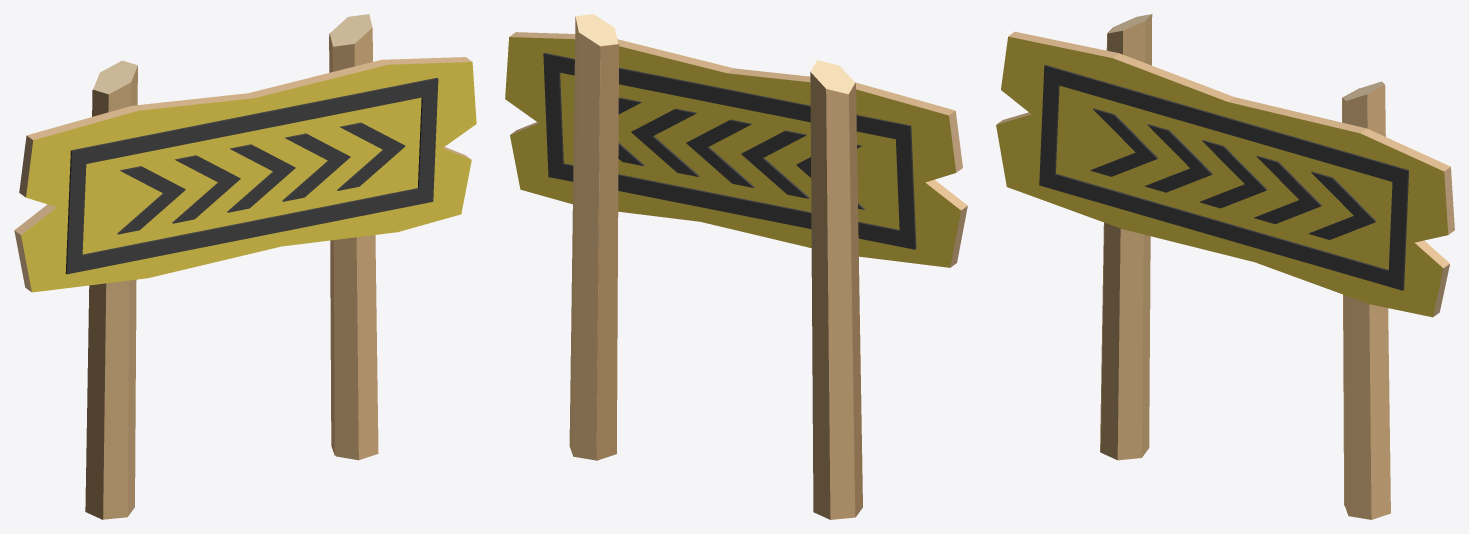
File: Pancarte_Jaune.fbx
3 views of the same model, side by side, from view 1: azimuth 30°, elevation 25°; view 2: azimuth 150°, elevation 25°; view 3: azimuth 330°, elevation 25° (orthographic).
Parts seen in each view (by area): view 1: Pancarte_Jaune; view 2: Pancarte_Jaune; view 3: Pancarte_Jaune.
Part boxes in pixels (x1=…): Pancarte_Jaune: x1=14, y1=14, x2=476, y2=519; Pancarte_Jaune: x1=505, y1=14, x2=967, y2=519; Pancarte_Jaune: x1=996, y1=14, x2=1454, y2=519.
Bounding box in the file's own units: 2.73 × 2.53 × 0.3488.
